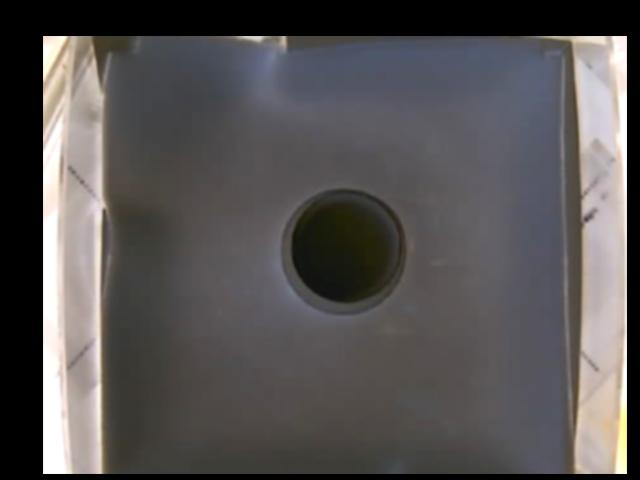Cup: (279, 190, 405, 317)
